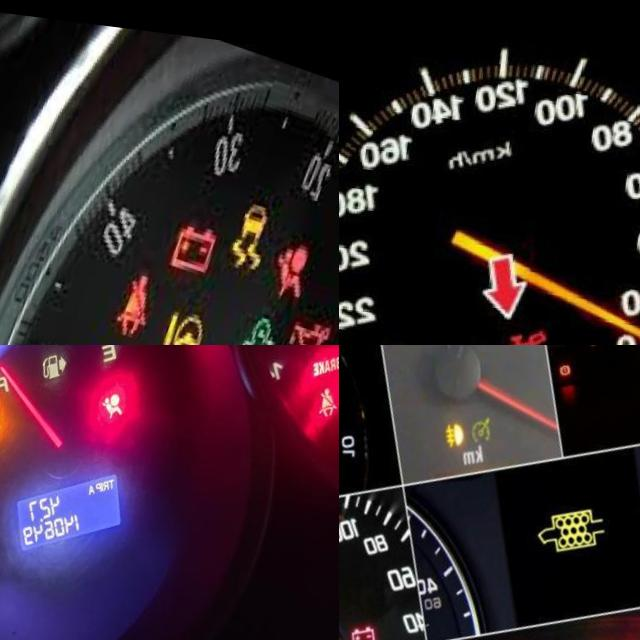Electronic Power Steering: (164, 301, 221, 345)
Seat Belt: (122, 261, 166, 332), (321, 367, 339, 405)
